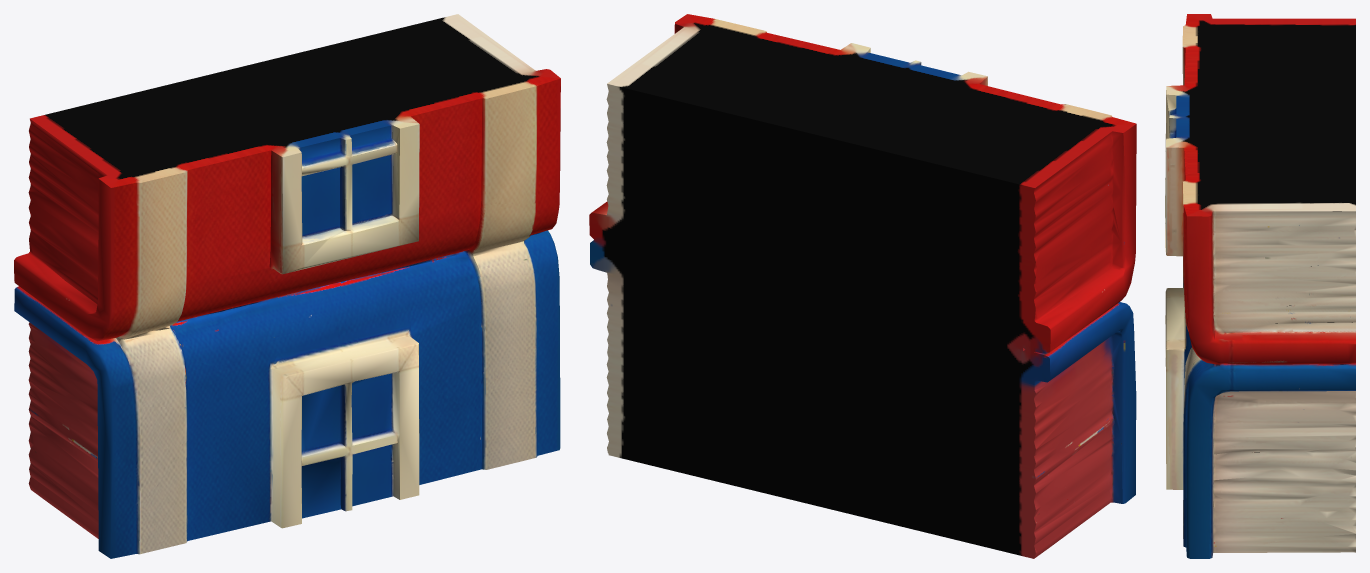
Rendered from 6-upper-walls-front-right.fbx.
The picture shows the model from 3 angles, left to right: view 1: azimuth 30°, elevation 25°; view 2: azimuth 150°, elevation 25°; view 3: azimuth 270°, elevation 25°; orthographic projection. The views are drawn at different scales.
Visible parts, largest first — view 1: upper-walls-front-right; view 2: upper-walls-front-right; view 3: upper-walls-front-right.
Part boxes in pixels (x1,y1,x2,y2): upper-walls-front-right: (14, 14, 560, 558); upper-walls-front-right: (589, 14, 1136, 558); upper-walls-front-right: (1165, 14, 1355, 558).
Bounding box in the file's own units: 3883 × 2984 × 1508.
Materials: 1 (1 with a texture image).
